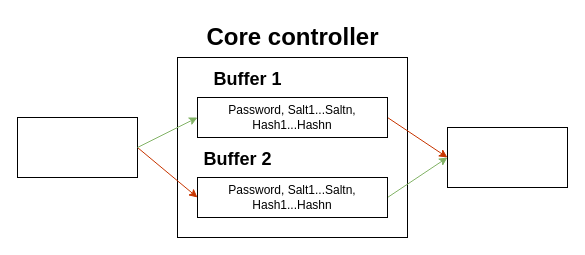
The diagram is 585 pixels wide and 255 high, and some of its shapes have lost their labels. The shapes that lost their labels are listed below. From the top down, each one's centre as x and y in pixels, then its label:
(77,147): External Memory
(507,157): Hash core
